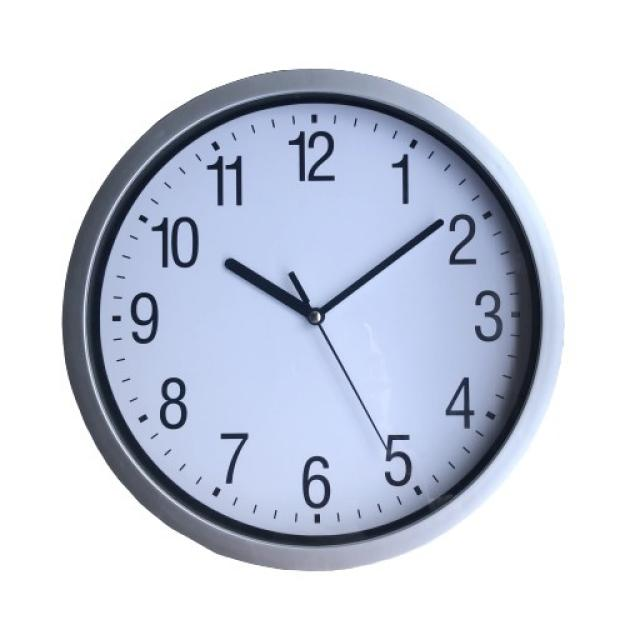clock: (69, 25, 566, 600)
